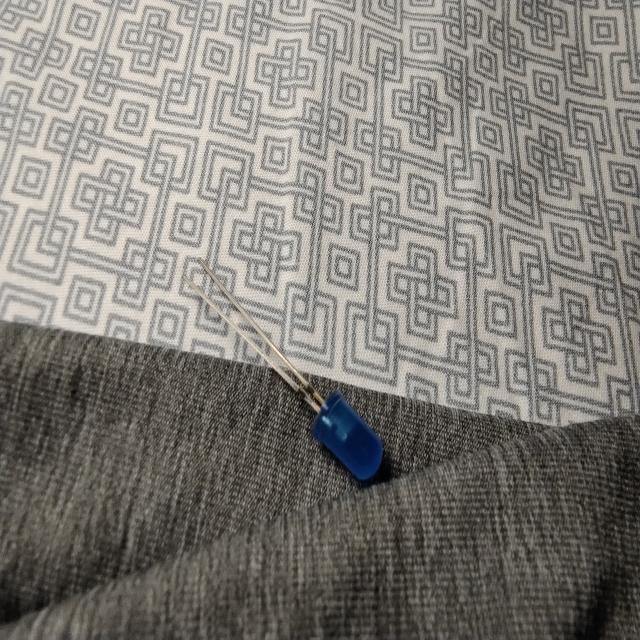blue_led: (311, 389, 384, 482)
